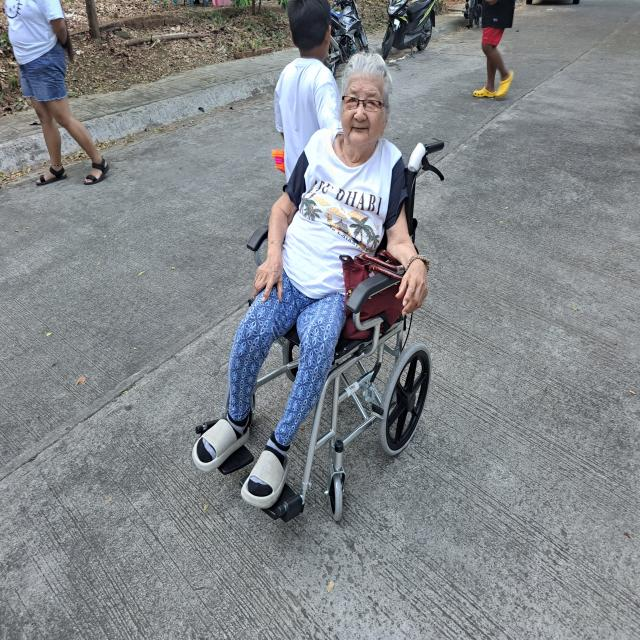wheelchairs: (194, 128, 453, 543)
